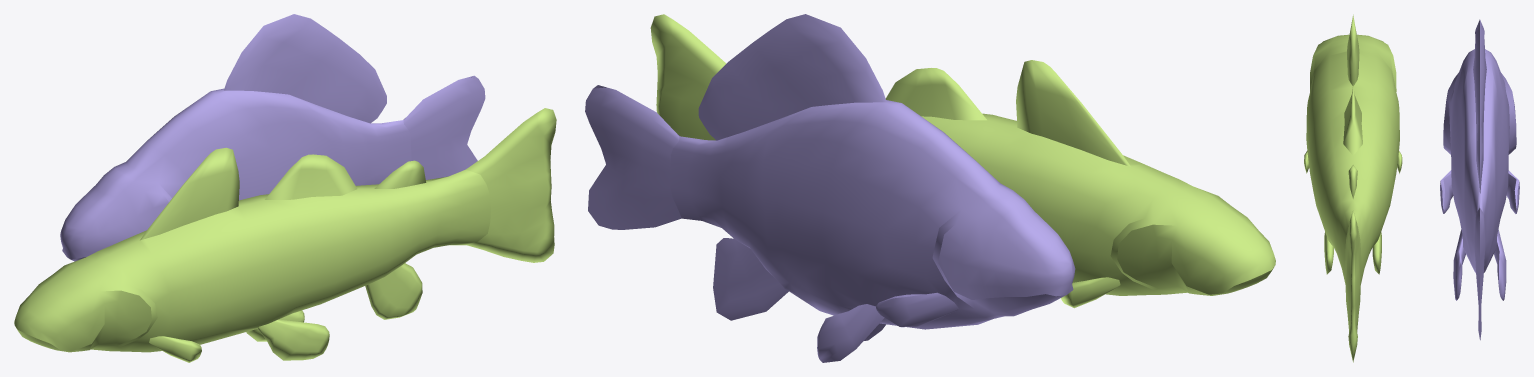
Rendered from fishes.fbx.
The picture shows the model from 3 angles, left to right: view 1: azimuth 30°, elevation 25°; view 2: azimuth 150°, elevation 25°; view 3: azimuth 270°, elevation 25°; orthographic projection. The views are drawn at different scales.
Visible parts, largest first — view 1: fish 2, fish 1; view 2: fish 1, fish 2; view 3: fish 2, fish 1.
Part boxes in pixels (box(x1,y1,x2,y2)): fish 2: box(14, 108, 556, 362); fish 1: box(60, 14, 485, 261); fish 1: box(585, 14, 1075, 362); fish 2: box(650, 14, 1275, 308); fish 2: box(1304, 14, 1402, 362); fish 1: box(1440, 19, 1519, 340).
Bounding box in the file's own units: 0.1729 × 0.2514 × 0.4932.
